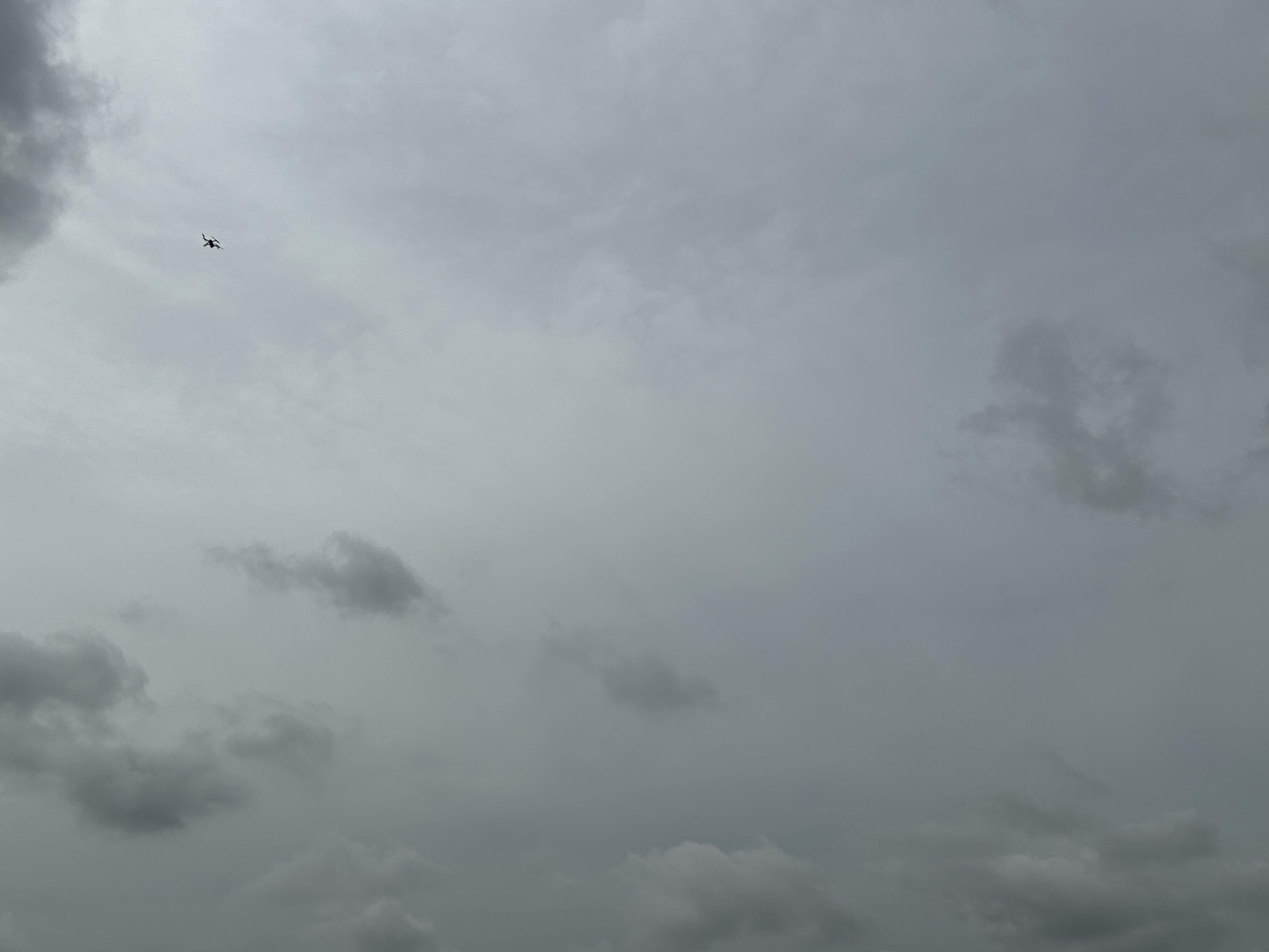drone_other: (201, 232, 225, 250)
